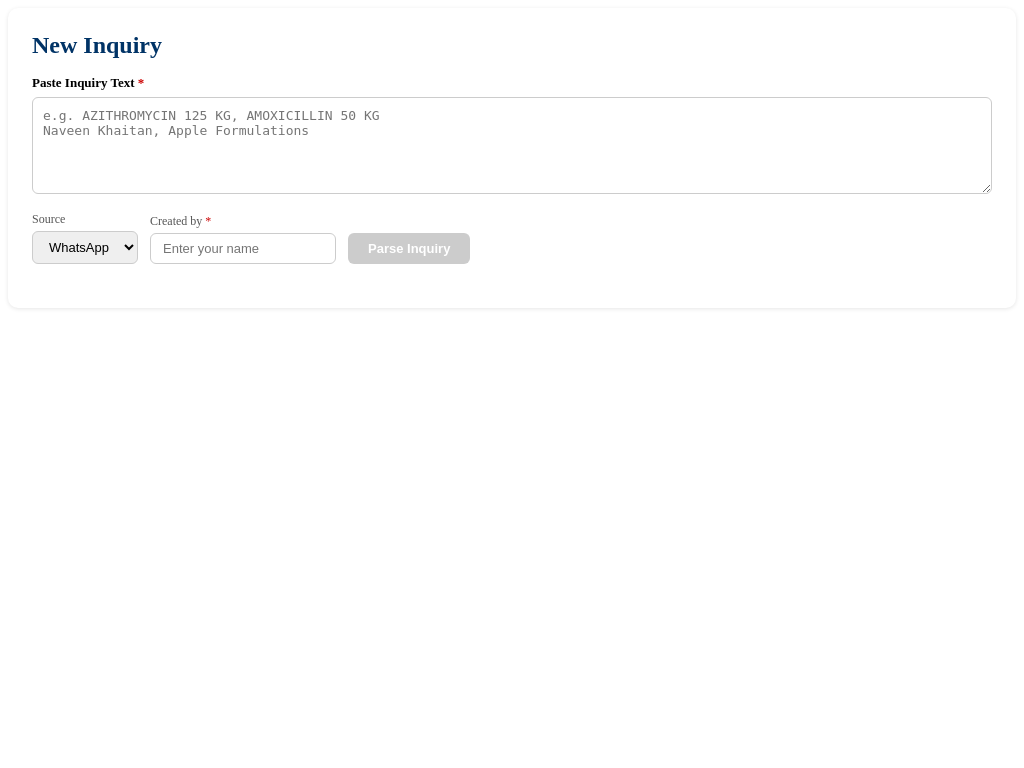
NewInquiry — autocomplete feature › displays customer suggestions in a dropdown
This screenshot has width=1024, height=768.
Step 1. Replace the text in the text box with "Azithromycin 125 KG" → point(512, 146), box [32,97,992,194]
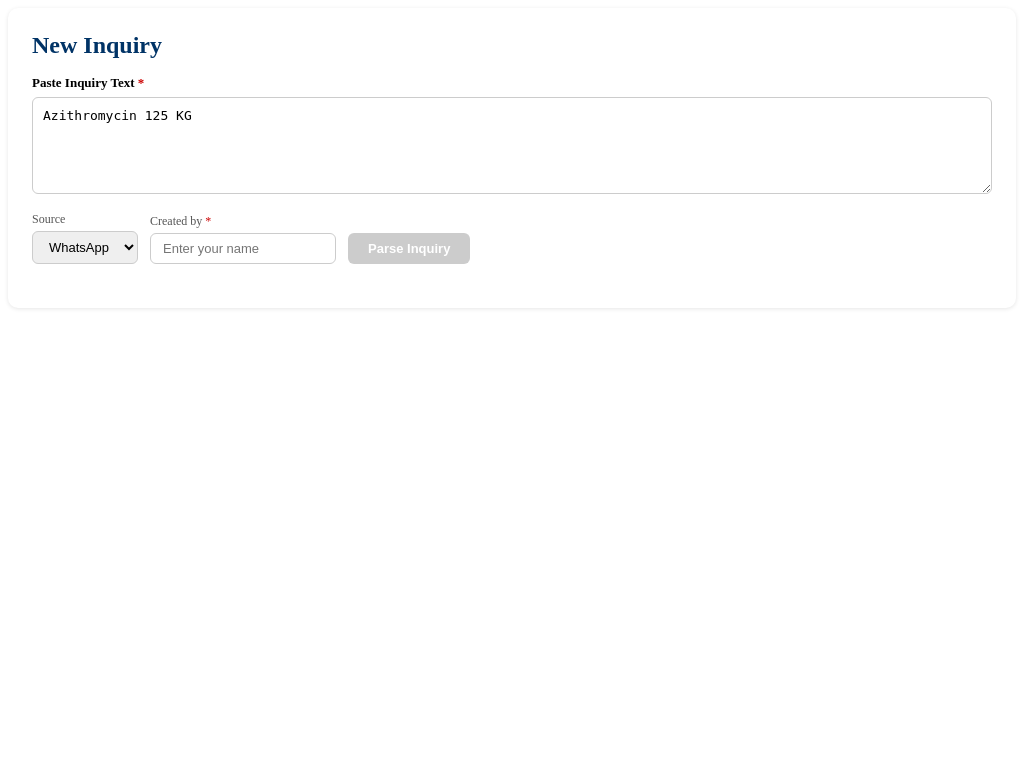
Step 2. Type "Paras" into the field with placeholder "Enter your name" → point(243, 248), box [150,233,336,264]
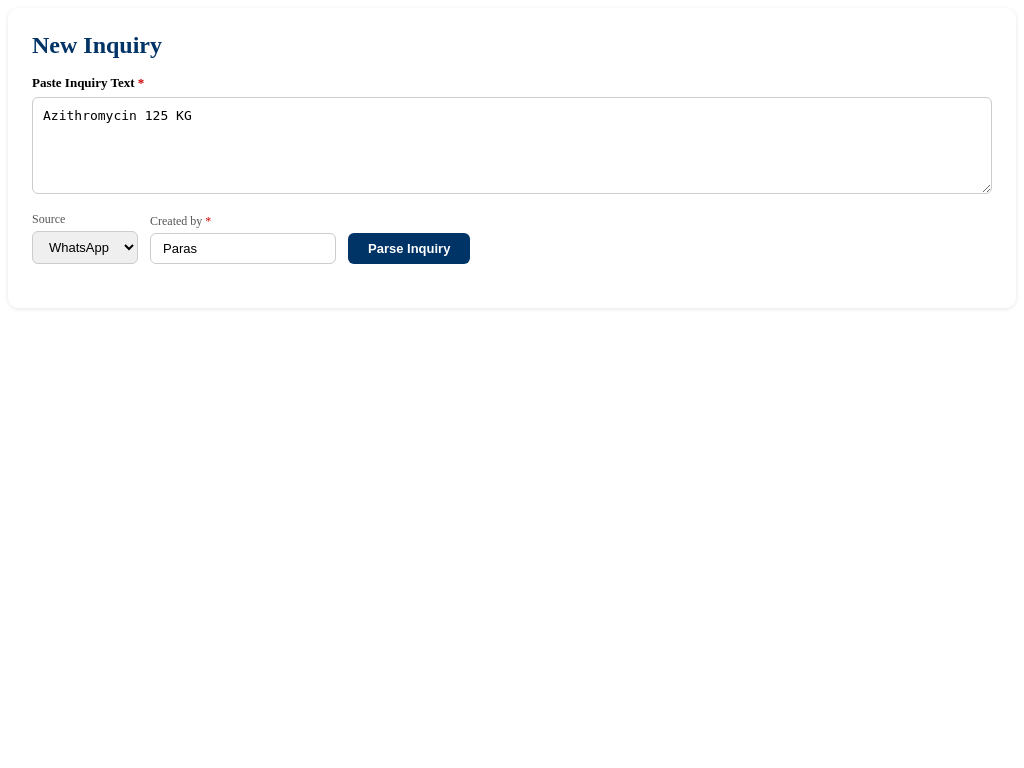
Step 3. Click the button "Parse Inquiry" → point(409, 248), box [348,233,470,264]
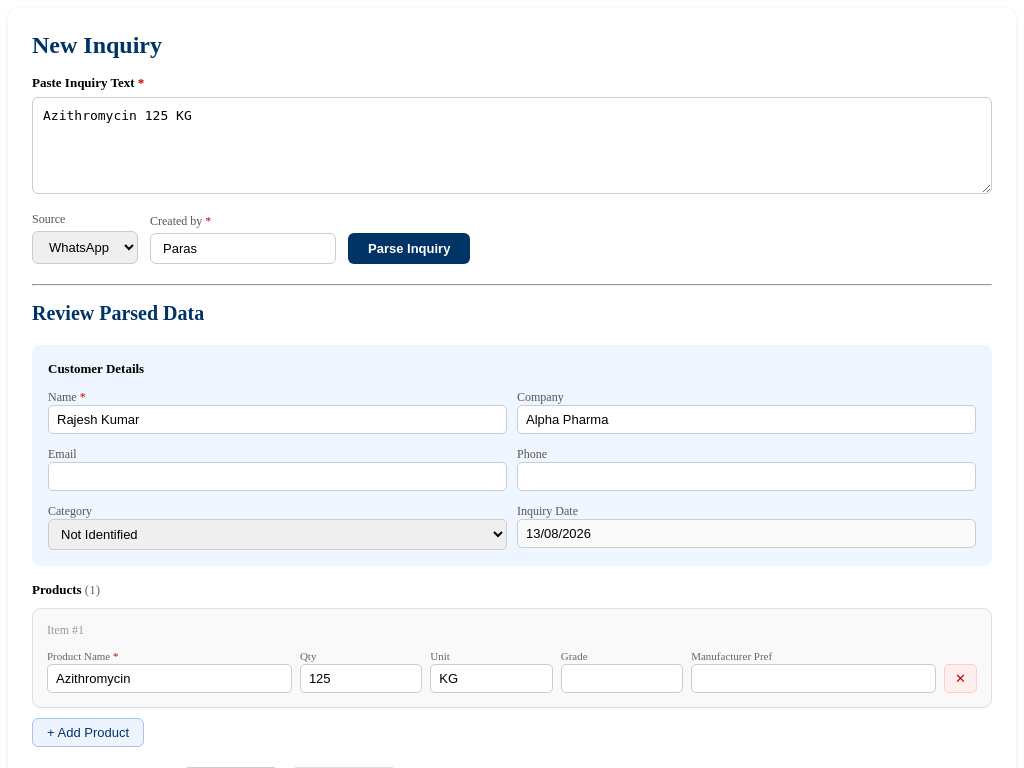
Step 4. Replace the text in the 2nd field showing "Rajesh Kumar" with "Rajesh" → point(278, 420), box [48,405,507,434]
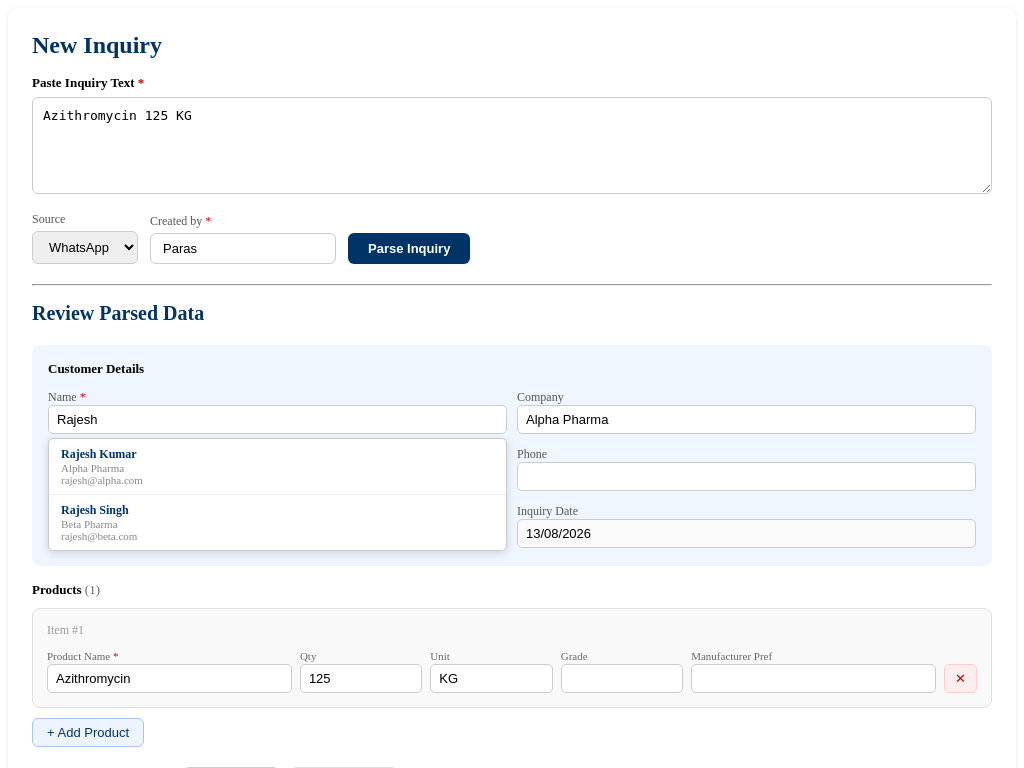
Now the text "Rajesh Kumar" is shown, box [61,447,137,461]
Now the text "Rajesh Singh" is shown, box [61,503,129,517]
